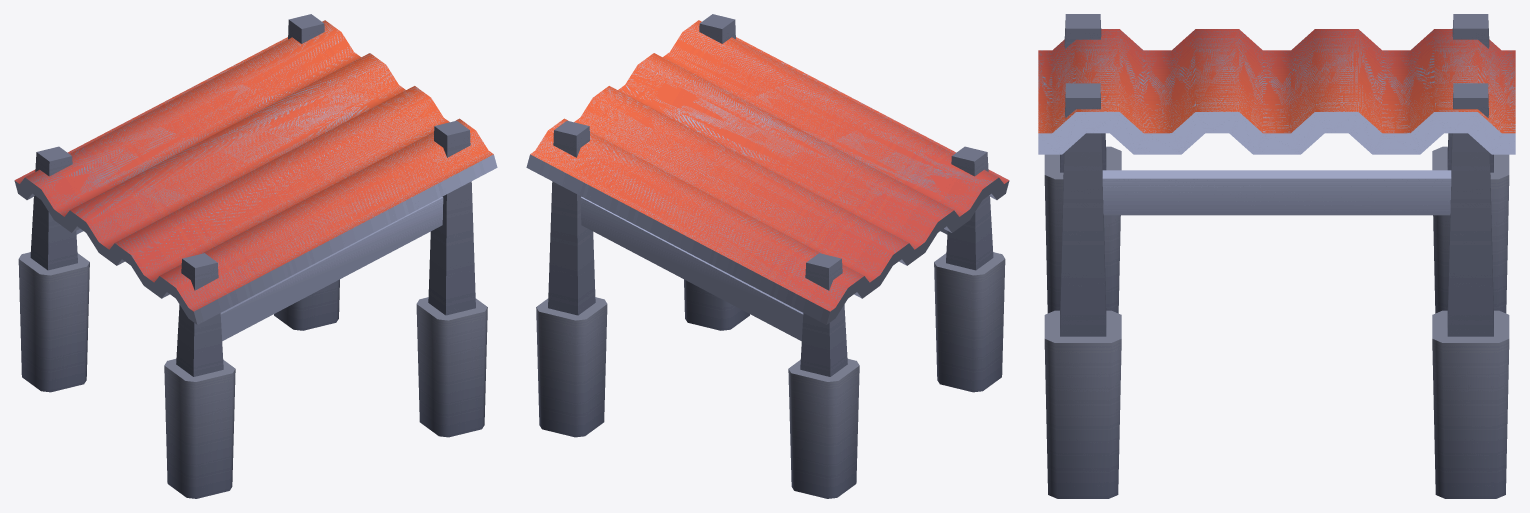
File: structure-metal-roof.glb
The picture shows the model from 3 angles, left to right: view 1: azimuth 30°, elevation 25°; view 2: azimuth 150°, elevation 25°; view 3: azimuth 270°, elevation 25°; orthographic projection. The views are drawn at different scales.
Visible parts, largest first — view 1: structure-metal-roof; view 2: structure-metal-roof; view 3: structure-metal-roof.
Boxes of the visible parts, left/top/right/bottom form: structure-metal-roof: left=14, top=14, right=497, bottom=498; structure-metal-roof: left=526, top=14, right=1009, bottom=498; structure-metal-roof: left=1038, top=14, right=1515, bottom=498.
Size of the model in its own units: 0.5442 by 0.5 by 0.55.
1 material, 1 textured.
